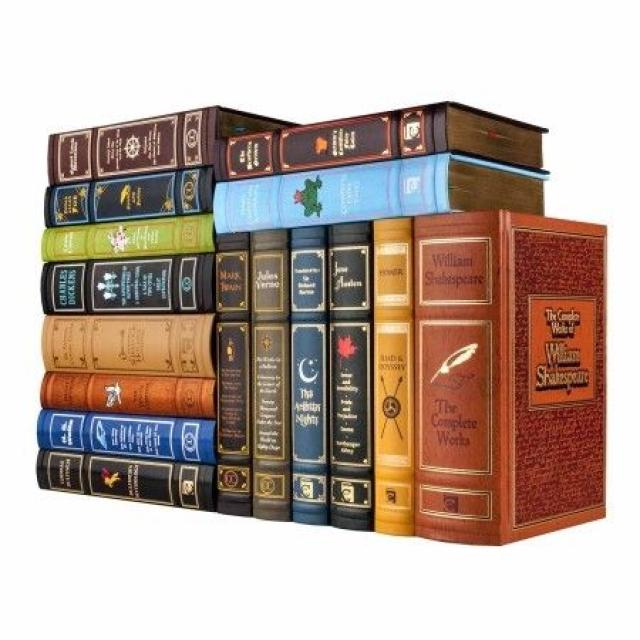book: (414, 211, 502, 547), (213, 153, 448, 234), (214, 103, 445, 180), (373, 219, 415, 536), (329, 221, 370, 531), (49, 107, 214, 184), (251, 228, 290, 521), (35, 449, 214, 511), (290, 228, 327, 525), (43, 314, 217, 377), (41, 252, 215, 314), (216, 231, 252, 517), (44, 167, 212, 227), (37, 412, 216, 466), (44, 214, 215, 260), (41, 374, 215, 418)
